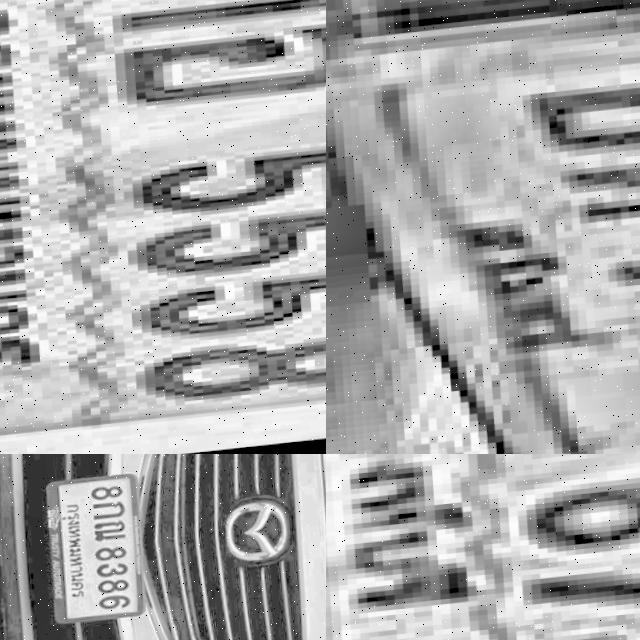license-plate: (0, 0, 326, 454), (326, 0, 640, 454), (326, 454, 640, 640), (40, 472, 153, 627)
